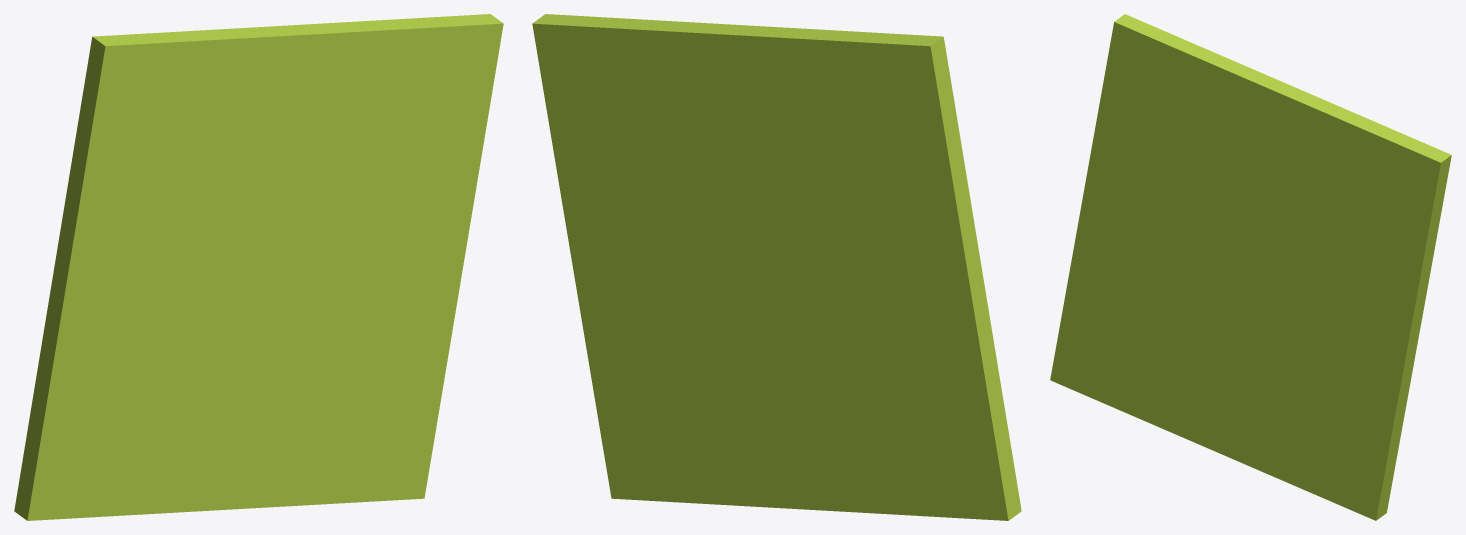
3 renders of one model, left to right at view 1: azimuth 30°, elevation 25°; view 2: azimuth 150°, elevation 25°; view 3: azimuth 330°, elevation 25°, orthographic. The views are drawn at different scales.
Parts seen in each view (by area): view 1: osm-way27917482-F0; view 2: osm-way27917482-F0; view 3: osm-way27917482-F0.
Part boxes in pixels (x1=…): osm-way27917482-F0: x1=14, y1=14, x2=503, y2=520; osm-way27917482-F0: x1=532, y1=14, x2=1021, y2=520; osm-way27917482-F0: x1=1050, y1=14, x2=1451, y2=520.
Bounding box in the file's own units: 3.13 × 3.33 × 0.15.
